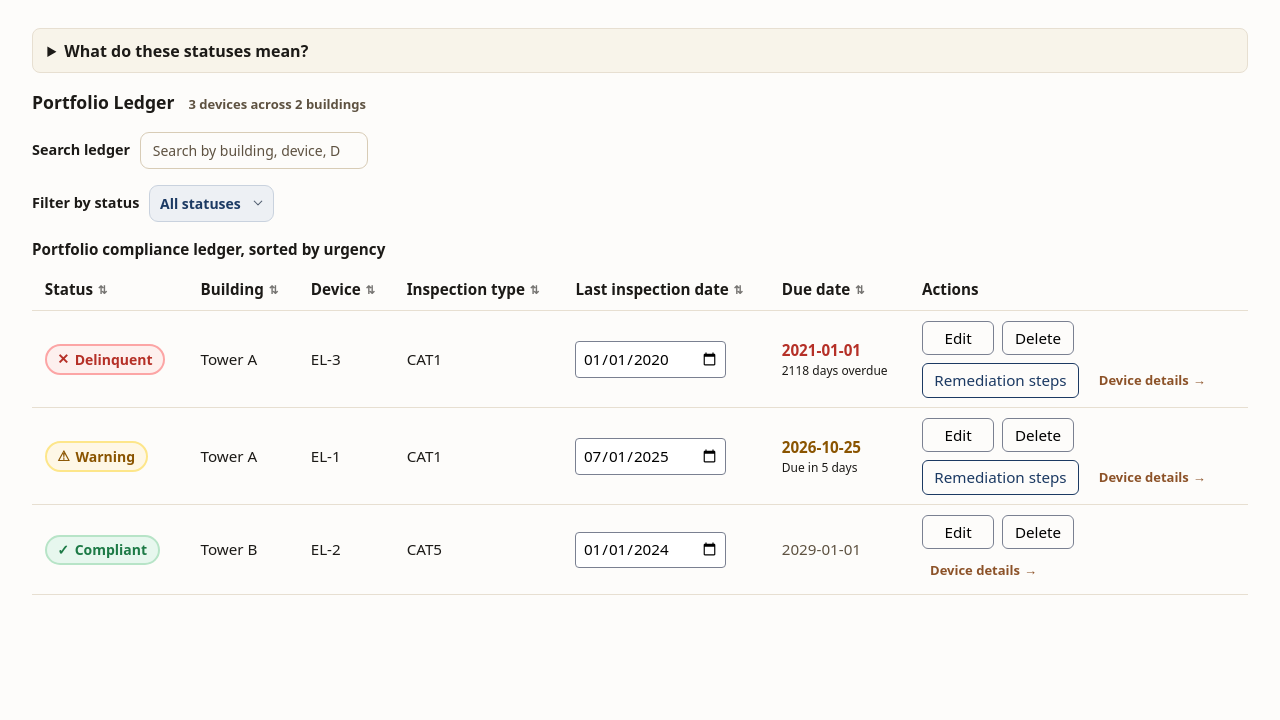
Test: LedgerPage › has no axe accessibility violations with a remediation panel expanded
Click the button with aria-label "remediation steps for el-3": (1000, 380) [922, 363, 1079, 398]
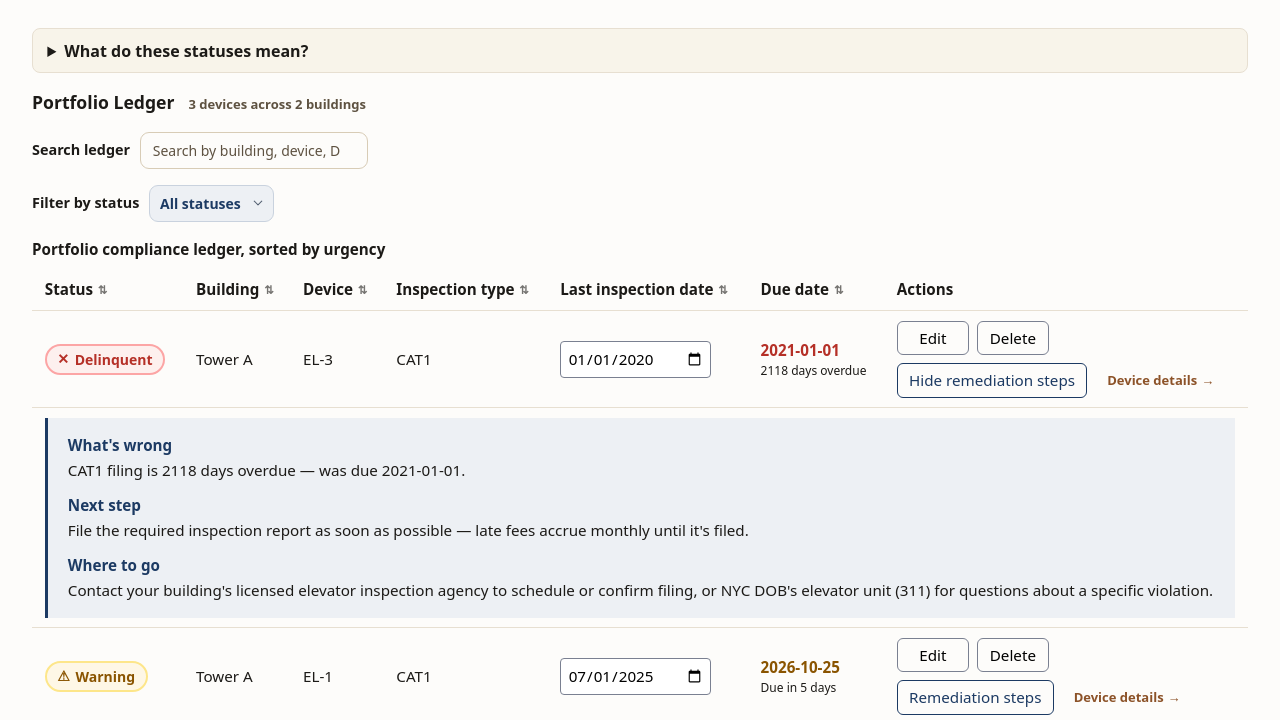
Check: the text "What's wrong" is shown, box [68, 435, 172, 455]
